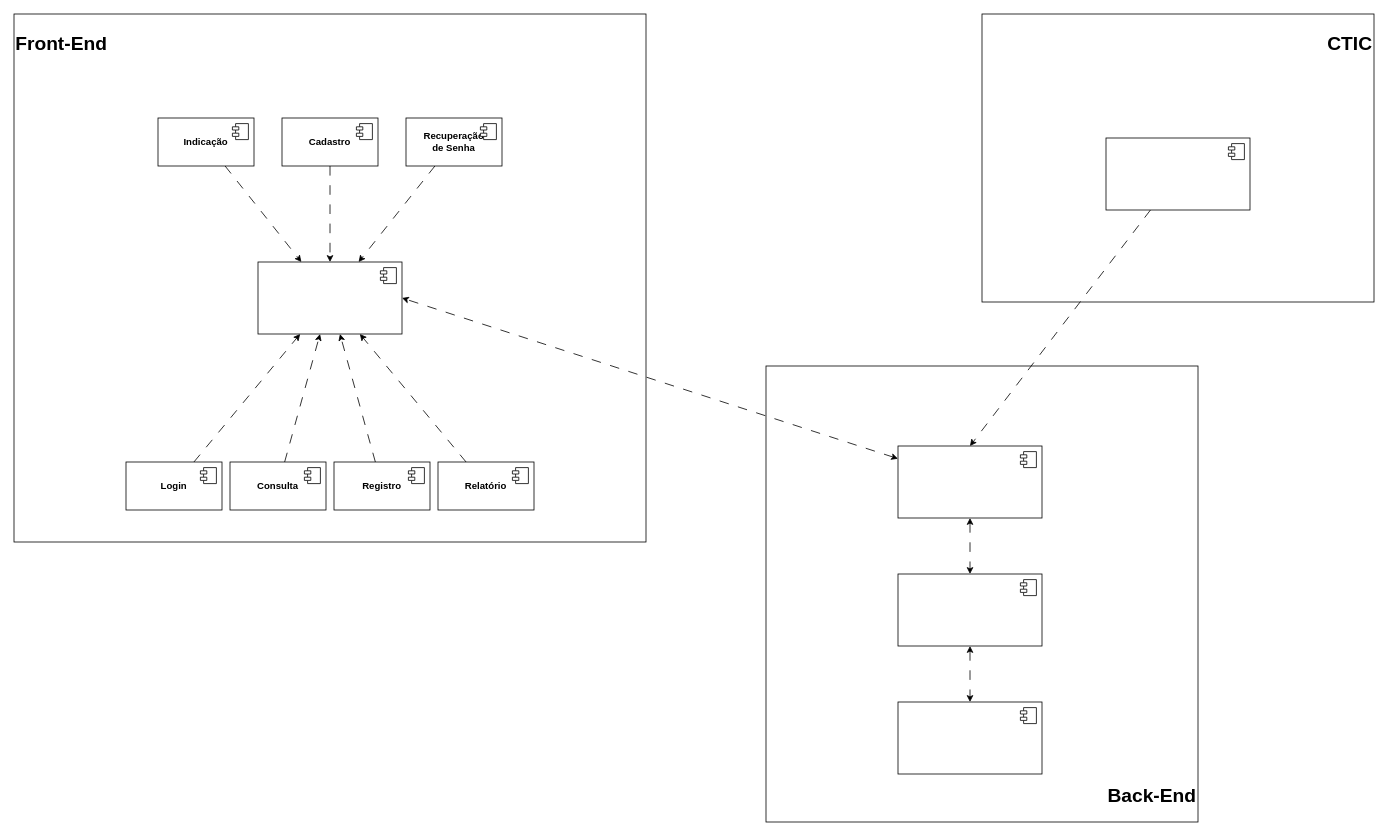
Image size: 1388x836. Some labels were removed from this diagram. The shapes that lost their labels are listed below. From the top down, each one's centre as x and y in pixels, then its label:
point 1177,173: API SIGAA
point 329,297: Interface
point 969,481: API
point 969,609: Banco de Dados
point 969,737: Registros
